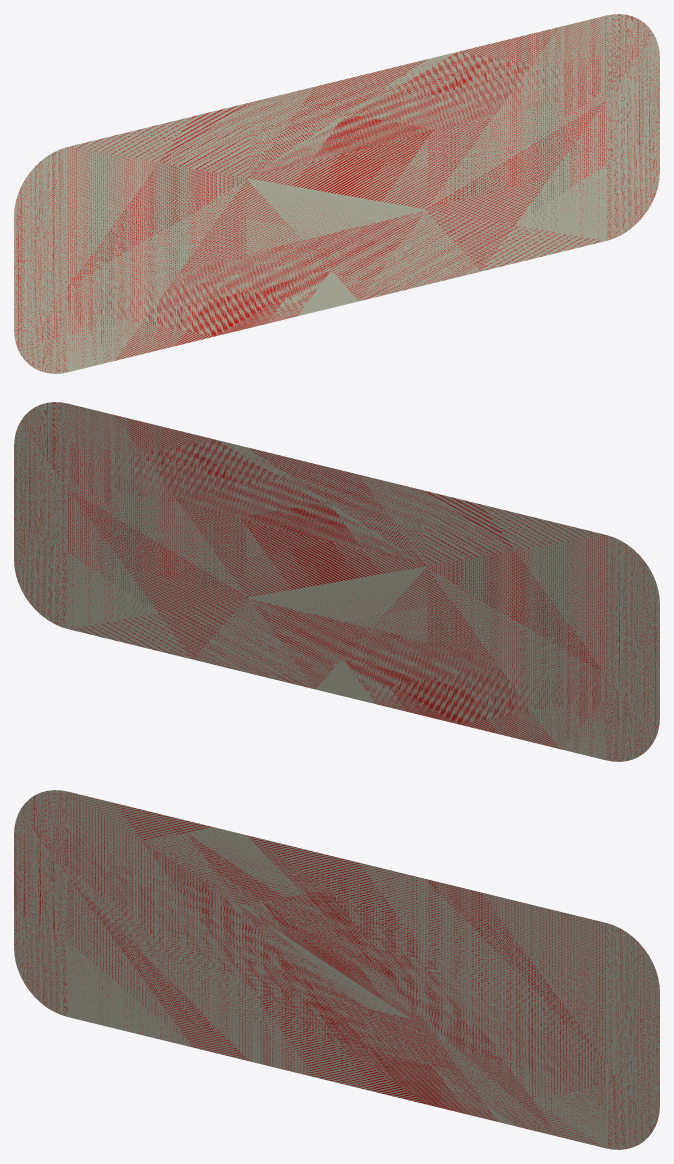
File: original-67.obj
3 renders of one model, top to bottom at view 1: azimuth 30°, elevation 25°; view 2: azimuth 150°, elevation 25°; view 3: azimuth 330°, elevation 25°, orthographic.
Parts seen in each view (by area): view 1: mesh20/mesh20-geometry/material_6/component_2#mesh20-geometry; view 2: mesh20/mesh20-geometry/material_6/component_2#mesh20-geometry; view 3: mesh20/mesh20-geometry/material_6/component_2#mesh20-geometry.
Part boxes in pixels (<box>): mesh20/mesh20-geometry/material_6/component_2#mesh20-geometry: <box>14,14,659,373</box>; mesh20/mesh20-geometry/material_6/component_2#mesh20-geometry: <box>14,402,659,761</box>; mesh20/mesh20-geometry/material_6/component_2#mesh20-geometry: <box>14,790,659,1149</box>.
Size of the model in its own units: 0.2289 by 0.0764 by 0.
